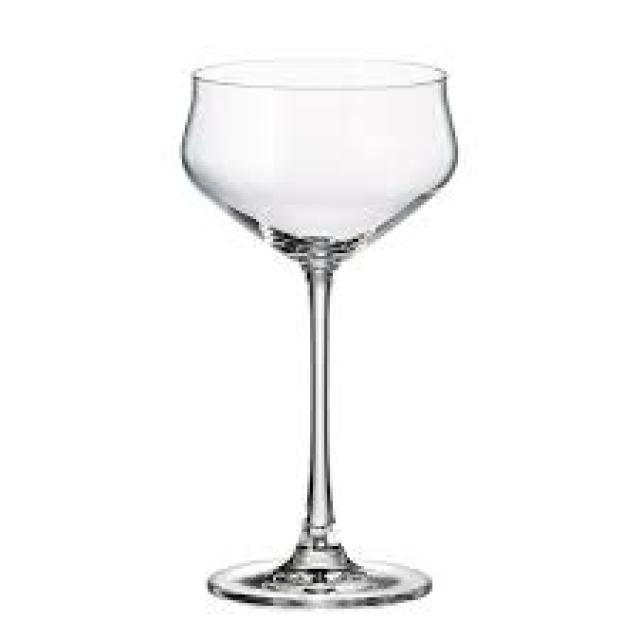Dry: (179, 56, 462, 606)
